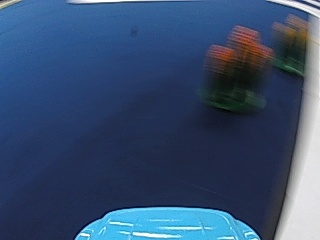corn: (205, 20, 273, 113)
